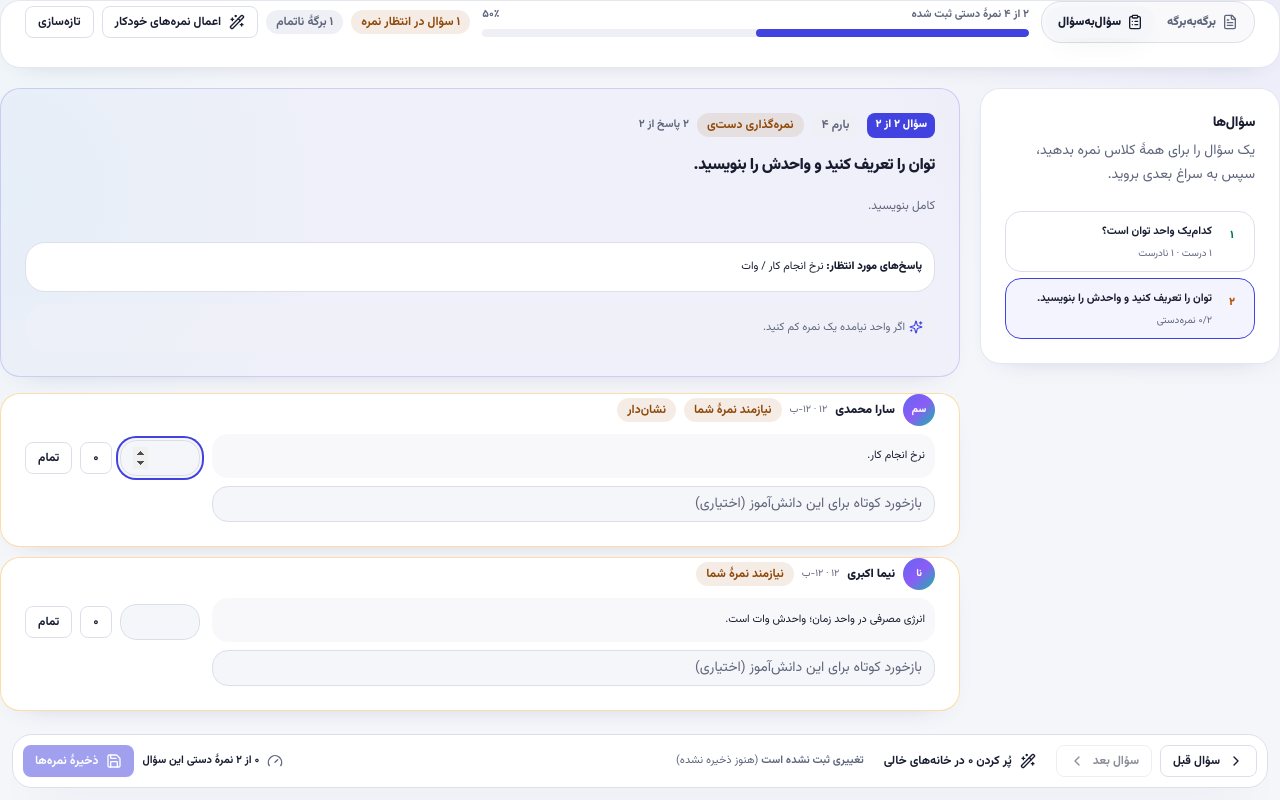
Test: ExamMarkingWorkspace › fills the empty boxes with zero without saving them
Expected: the heading "سؤال‌ها" is shown, [1213,112,1255,134]
Step 1. Click the button "پُر کردن ۰ در خانه‌های خالی" → (960, 761), box [872,745,1048,777]
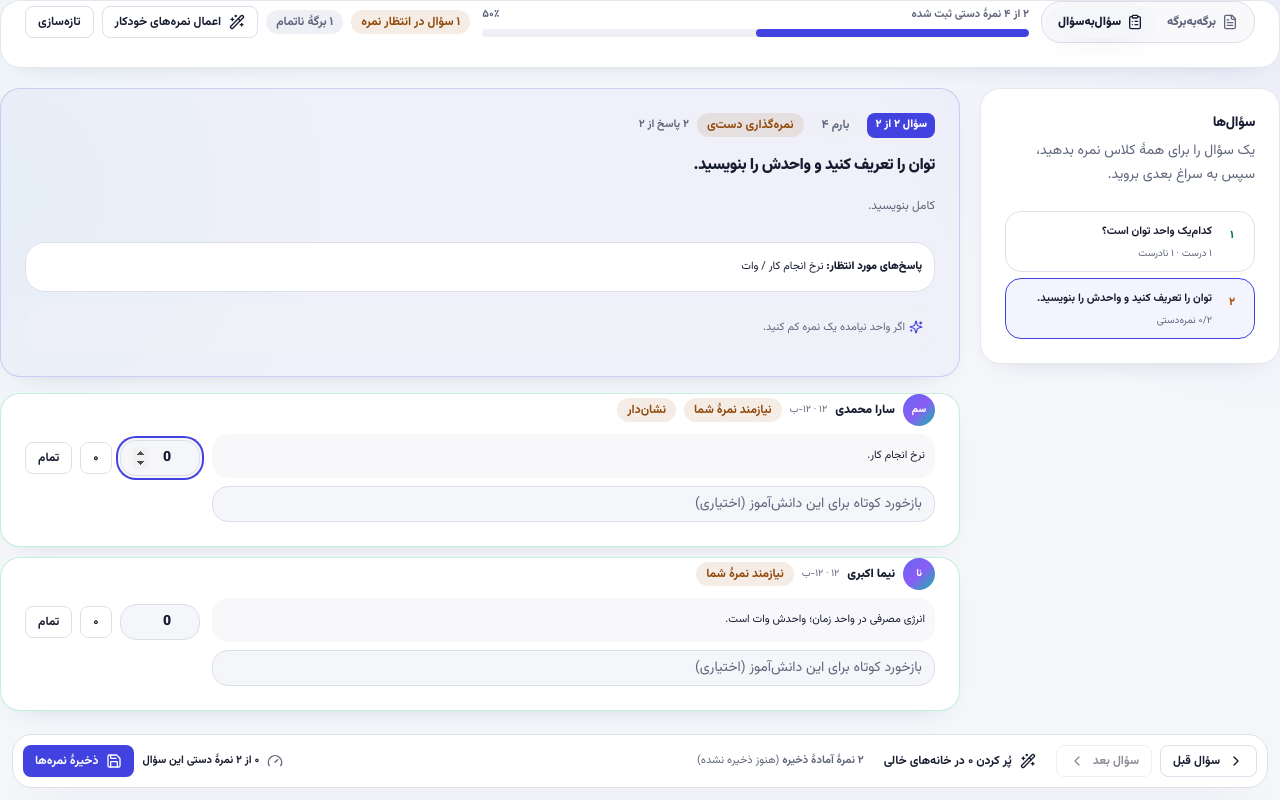
Expected: the text "۲ نمرهٔ آمادهٔ ذخیره (هنوز ذخیره نشده)" is shown, [697,753,864,769]
